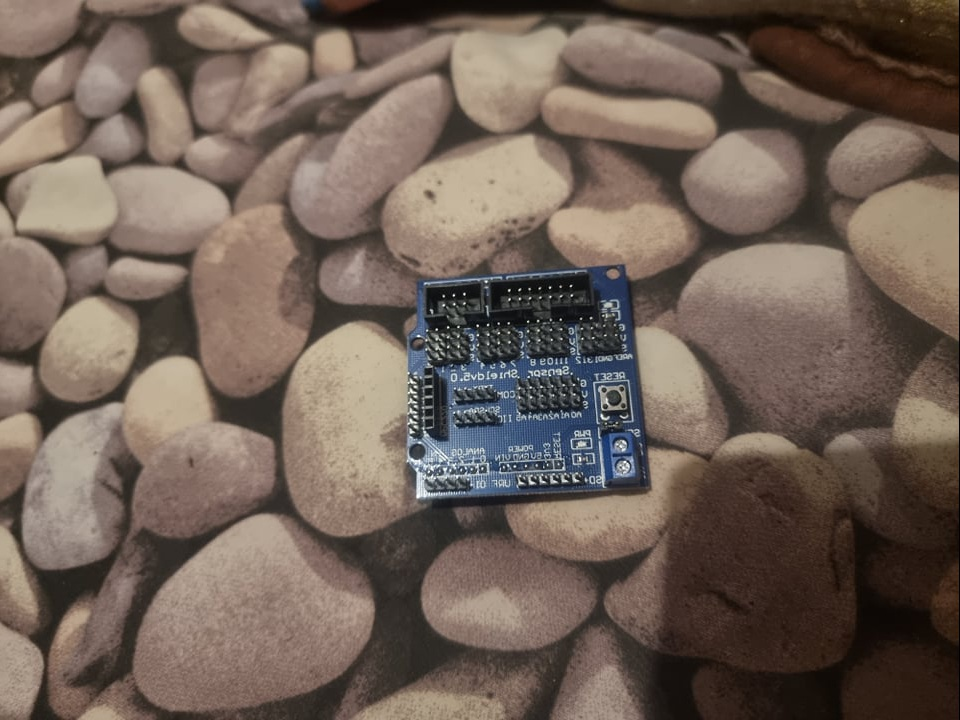5V EXPANSION: (410, 263, 648, 496)
